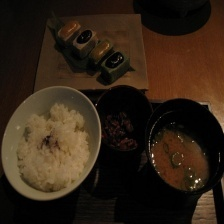rice: (18, 104, 90, 192)
